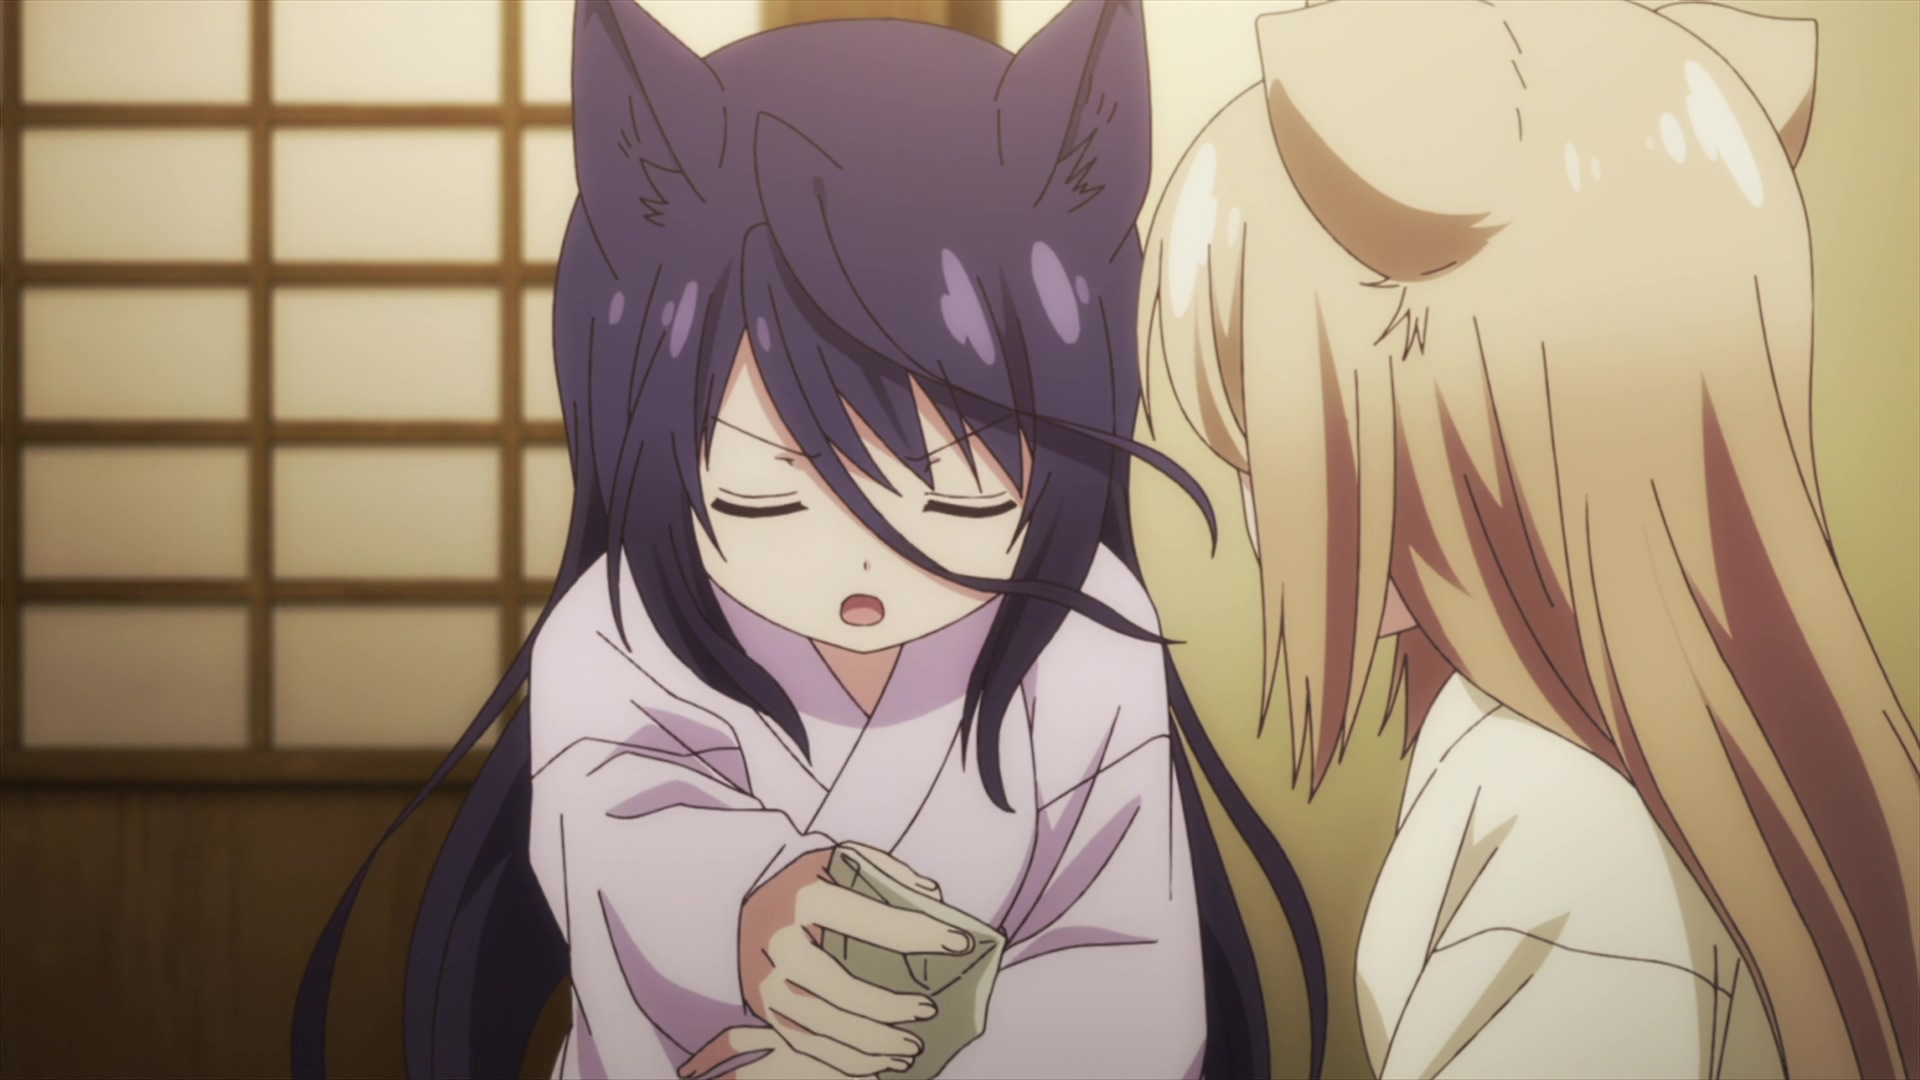柚: (1133, 1, 1920, 1080)
皋: (287, 1, 1329, 1080)
